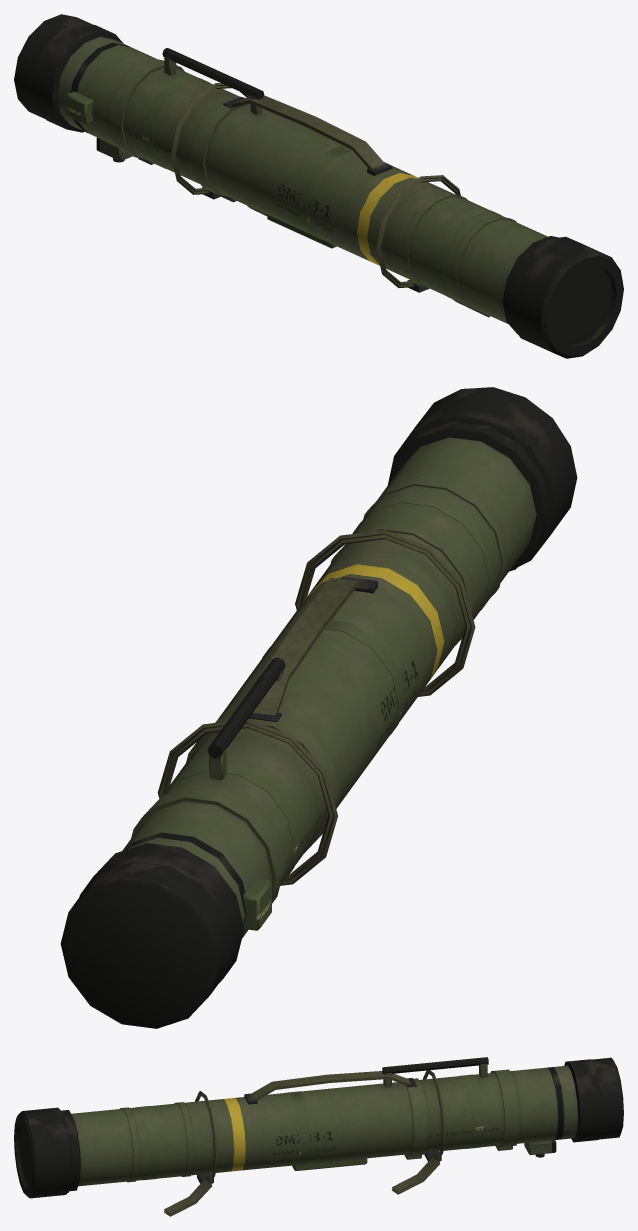
Rendered from atgm_tube_carried.glb.
3 renders of one model, top to bottom at view 1: azimuth 30°, elevation 25°; view 2: azimuth 150°, elevation 25°; view 3: azimuth 270°, elevation 25°, orthographic. The views are drawn at different scales.
Visible parts, largest first — view 1: tube_kornet_mesh, tube_stugna_mesh; view 2: tube_kornet_mesh, tube_stugna_mesh; view 3: tube_kornet_mesh, tube_stugna_mesh.
Boxes of the visible parts, <box> form: tube_kornet_mesh: <box>32,22,558,334</box>; tube_stugna_mesh: <box>14,14,623,358</box>; tube_kornet_mesh: <box>79,421,550,982</box>; tube_stugna_mesh: <box>60,387,577,1028</box>; tube_kornet_mesh: <box>61,1057,602,1214</box>; tube_stugna_mesh: <box>14,1057,623,1216</box>.
Size of what is drawn, in the model's own units: 0.4659 by 0.265 by 1.31.
Materials: 1 (1 with a texture image).
